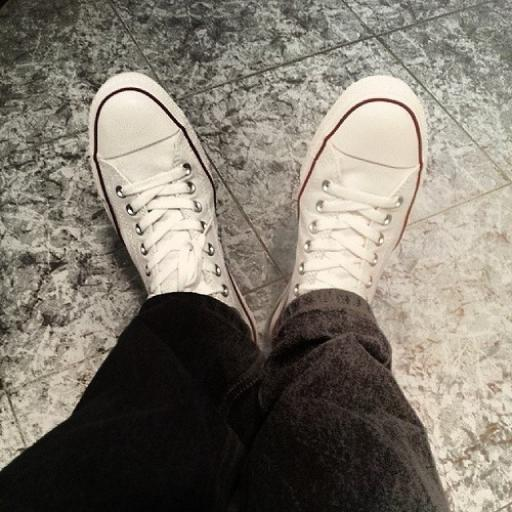shoe: (89, 72, 256, 340), (269, 76, 427, 335)
